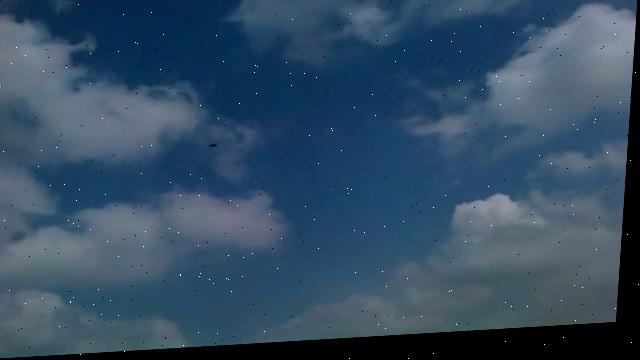drone: (206, 141, 223, 154)
